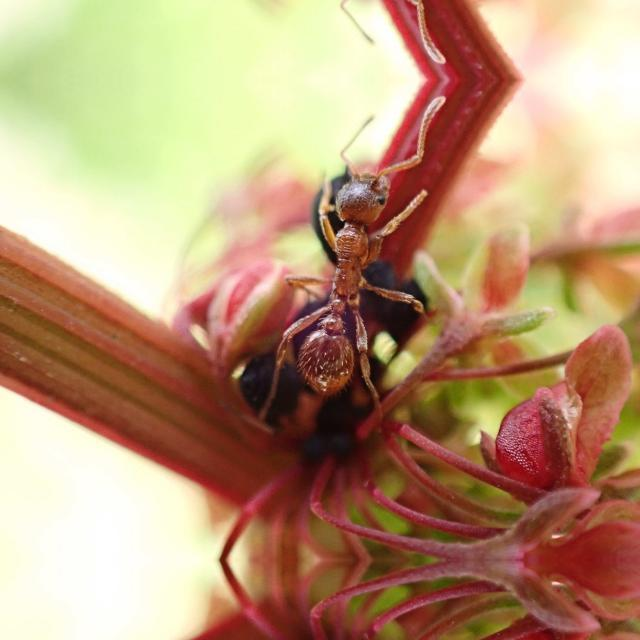Myrmica: (225, 135, 442, 409)
